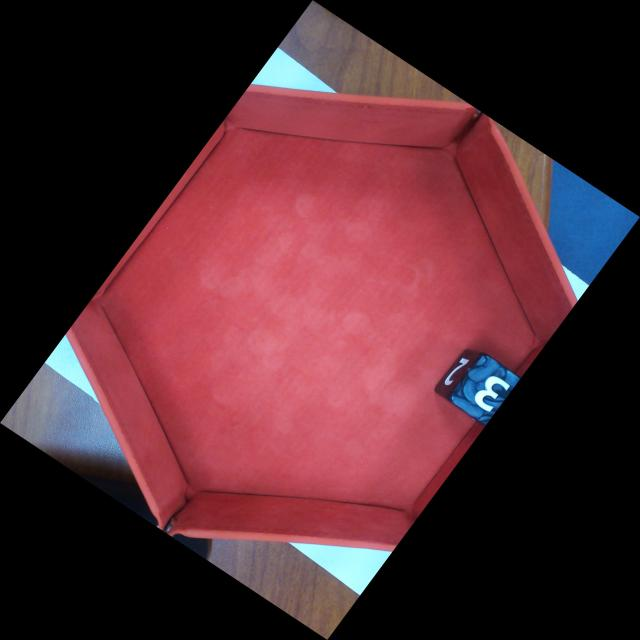dice: (450, 355, 522, 424)
